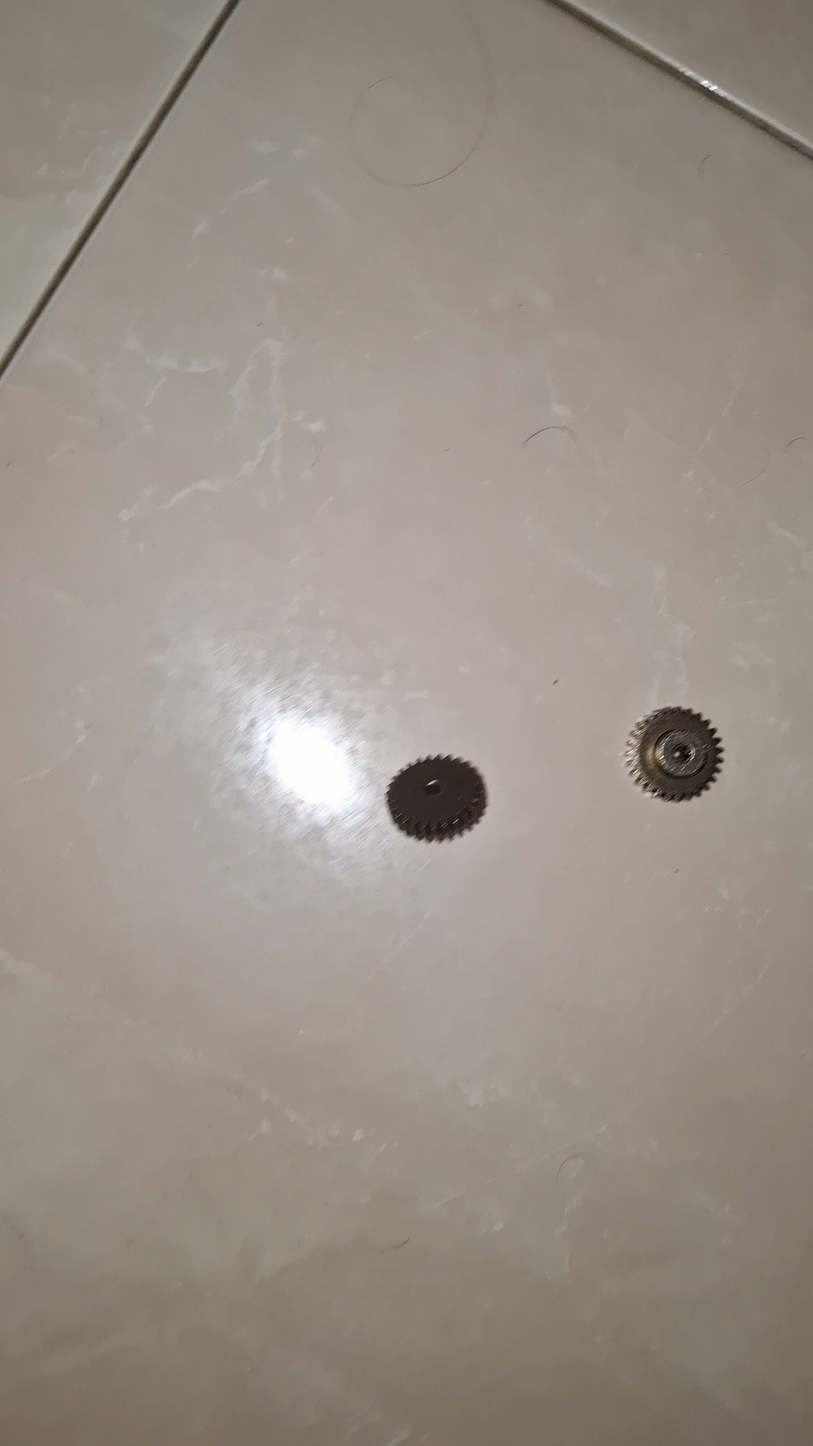spur gear: (626, 708, 722, 800), (387, 757, 486, 840)
